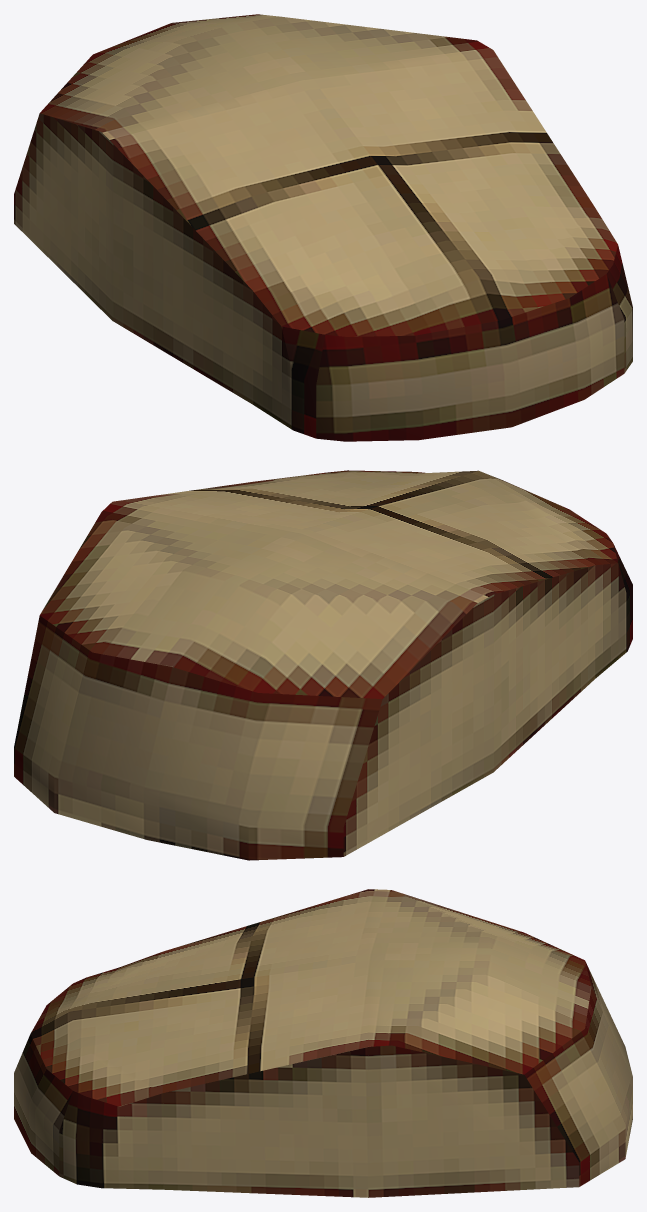
Rendered from SM_Mouse.fbx.
3 views of the same model, one above another, from view 1: azimuth 30°, elevation 25°; view 2: azimuth 150°, elevation 25°; view 3: azimuth 270°, elevation 25° (orthographic). The views are drawn at different scales.
Parts seen in each view (by area): view 1: SM_Mouse; view 2: SM_Mouse; view 3: SM_Mouse.
Boxes of the visible parts, bbox=[...] form: SM_Mouse: bbox=[14, 14, 632, 441]; SM_Mouse: bbox=[14, 470, 632, 860]; SM_Mouse: bbox=[14, 889, 632, 1197].
Size of the model in its own units: 8.82 by 4.35 by 14.61.
